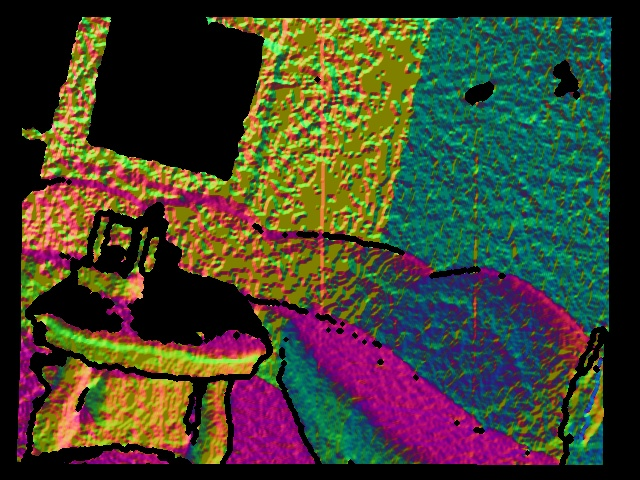station: (74, 211, 148, 304)
